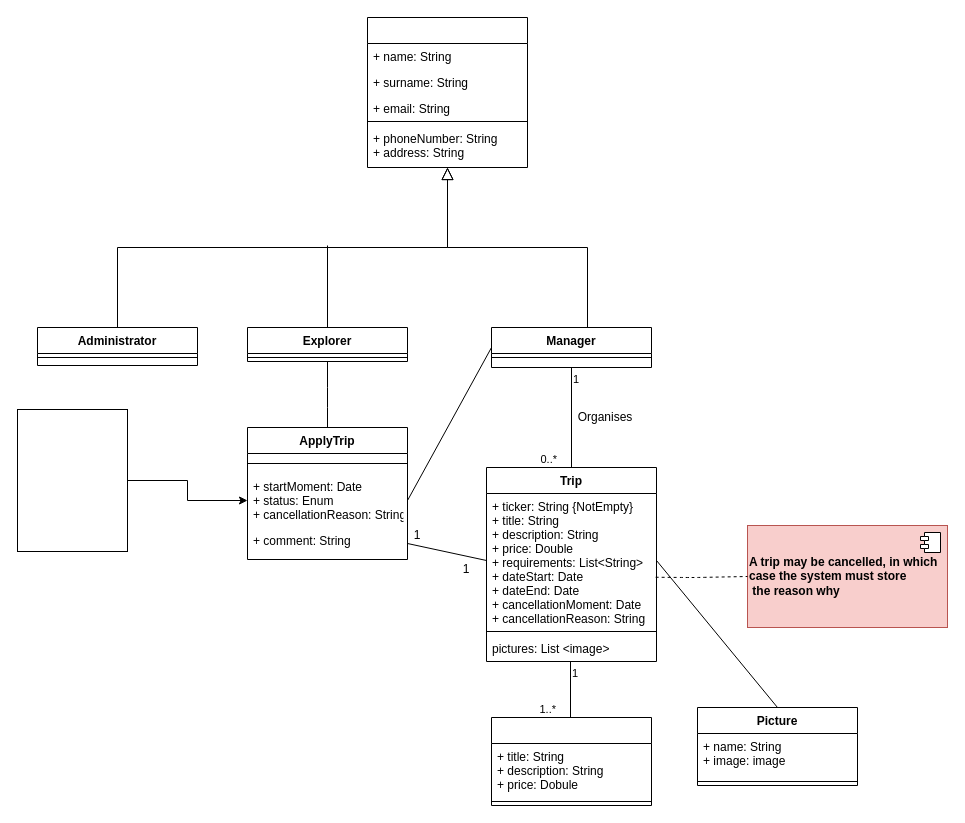
The diagram is 965 pixels wide and 823 high, and some of its shapes have lost their labels. Each missing label, with the box of its shape:
Actor: (366, 16, 528, 168)
Stages: (490, 716, 652, 806)
«enumeration» status_Enum PENDING REJECTED DUE ACCEPTED CANCELLED: (16, 408, 128, 552)
